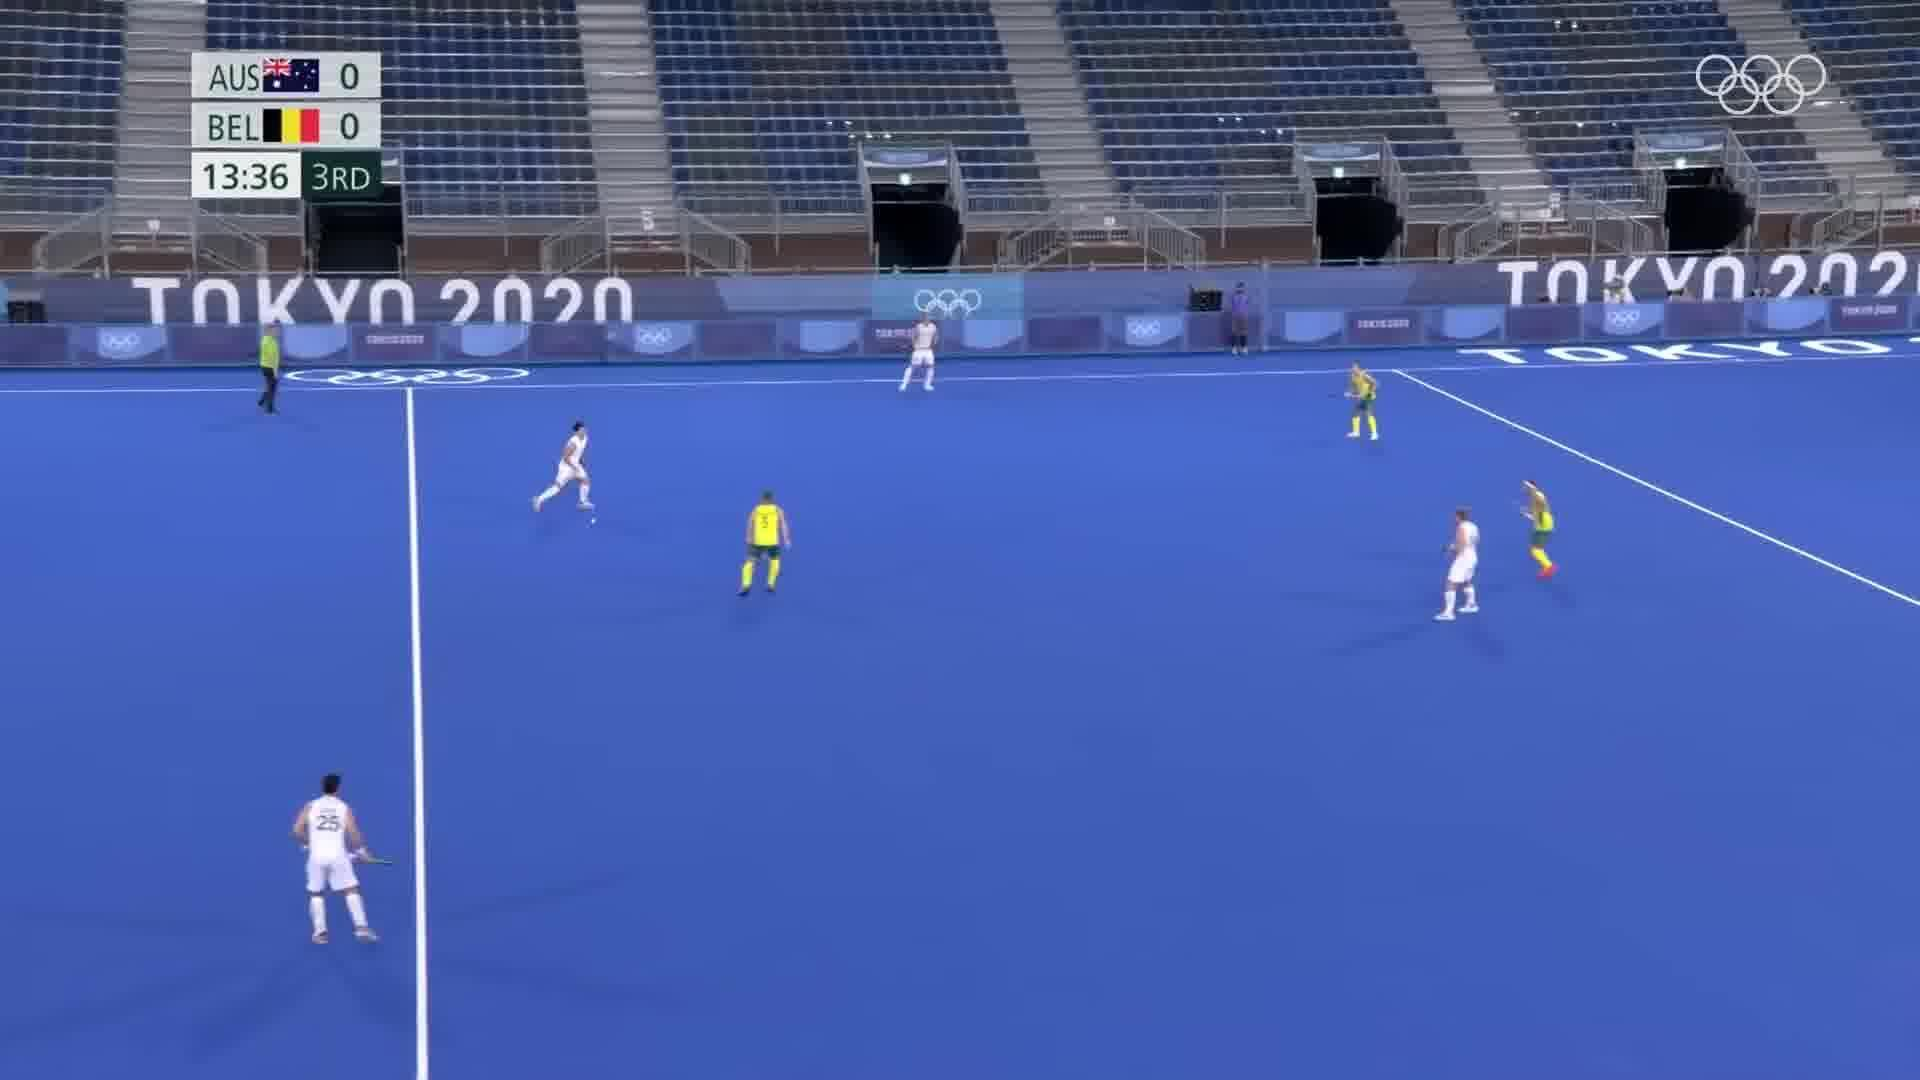ball: (583, 514, 596, 527)
